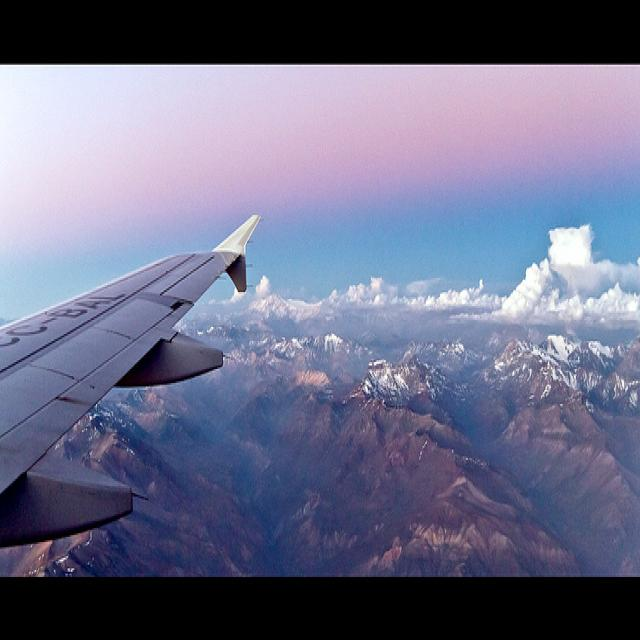airplane: (1, 211, 262, 575)
